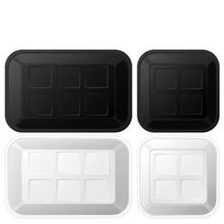foam_box: (1, 46, 134, 136), (1, 132, 133, 220), (135, 47, 222, 135), (135, 134, 221, 220)
